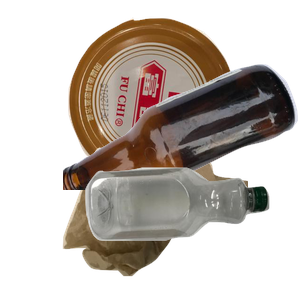glass: (63, 62, 300, 242)
metal: (66, 15, 297, 193)
plastic: (83, 165, 300, 300)
trash: (60, 142, 300, 300)
